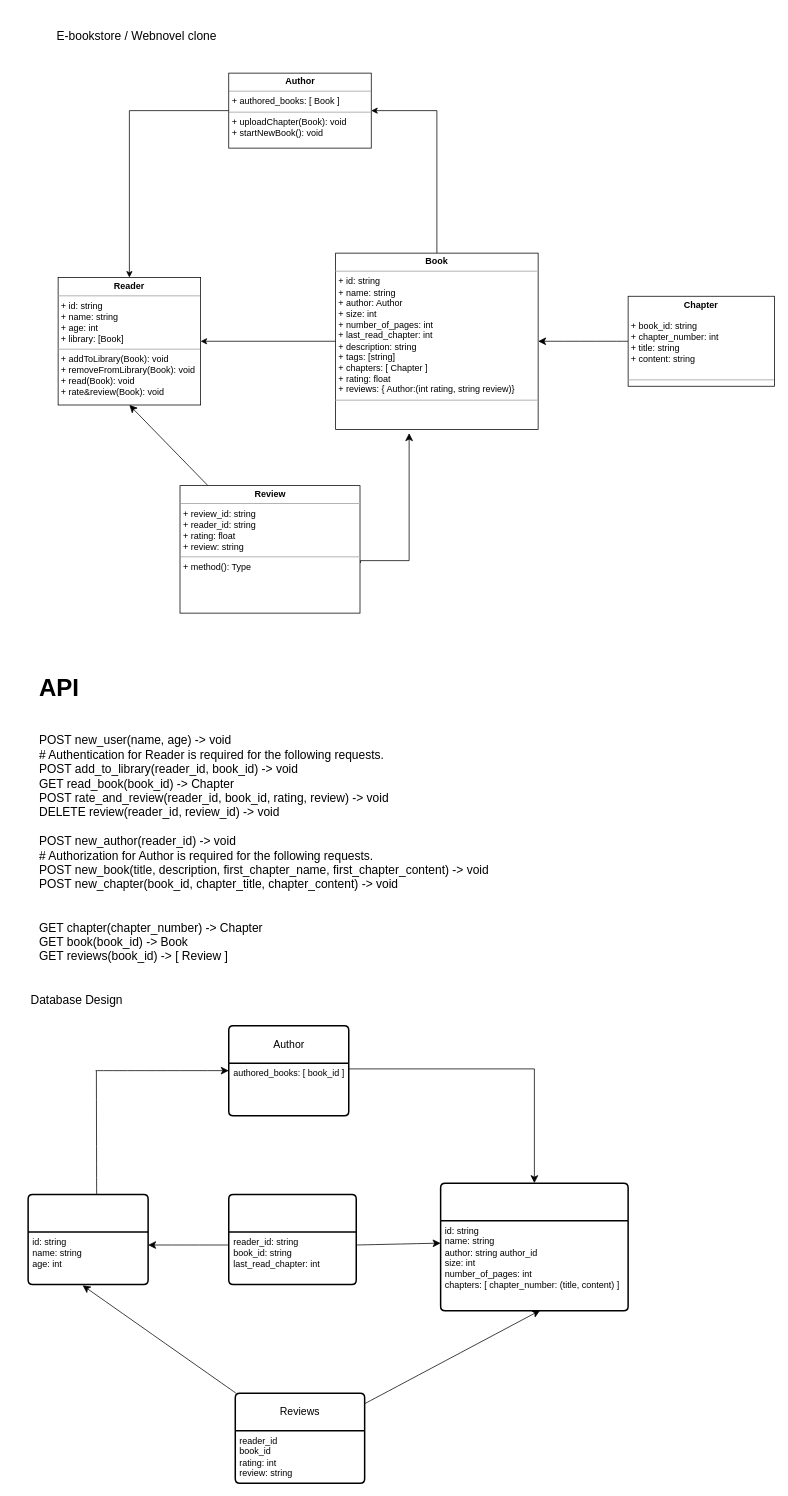
This 788x1496 diagram has some shape labels left out. The box of each missing label's shape, as (x1, y1, x2, y2) in pixels:
Book: (440, 1182, 628, 1311)
Libraries: (228, 1193, 357, 1285)
Reader: (27, 1193, 148, 1285)
